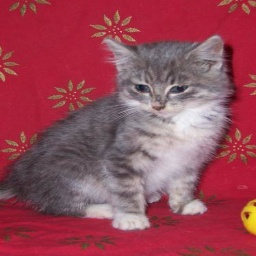cat: (9, 32, 234, 231)
